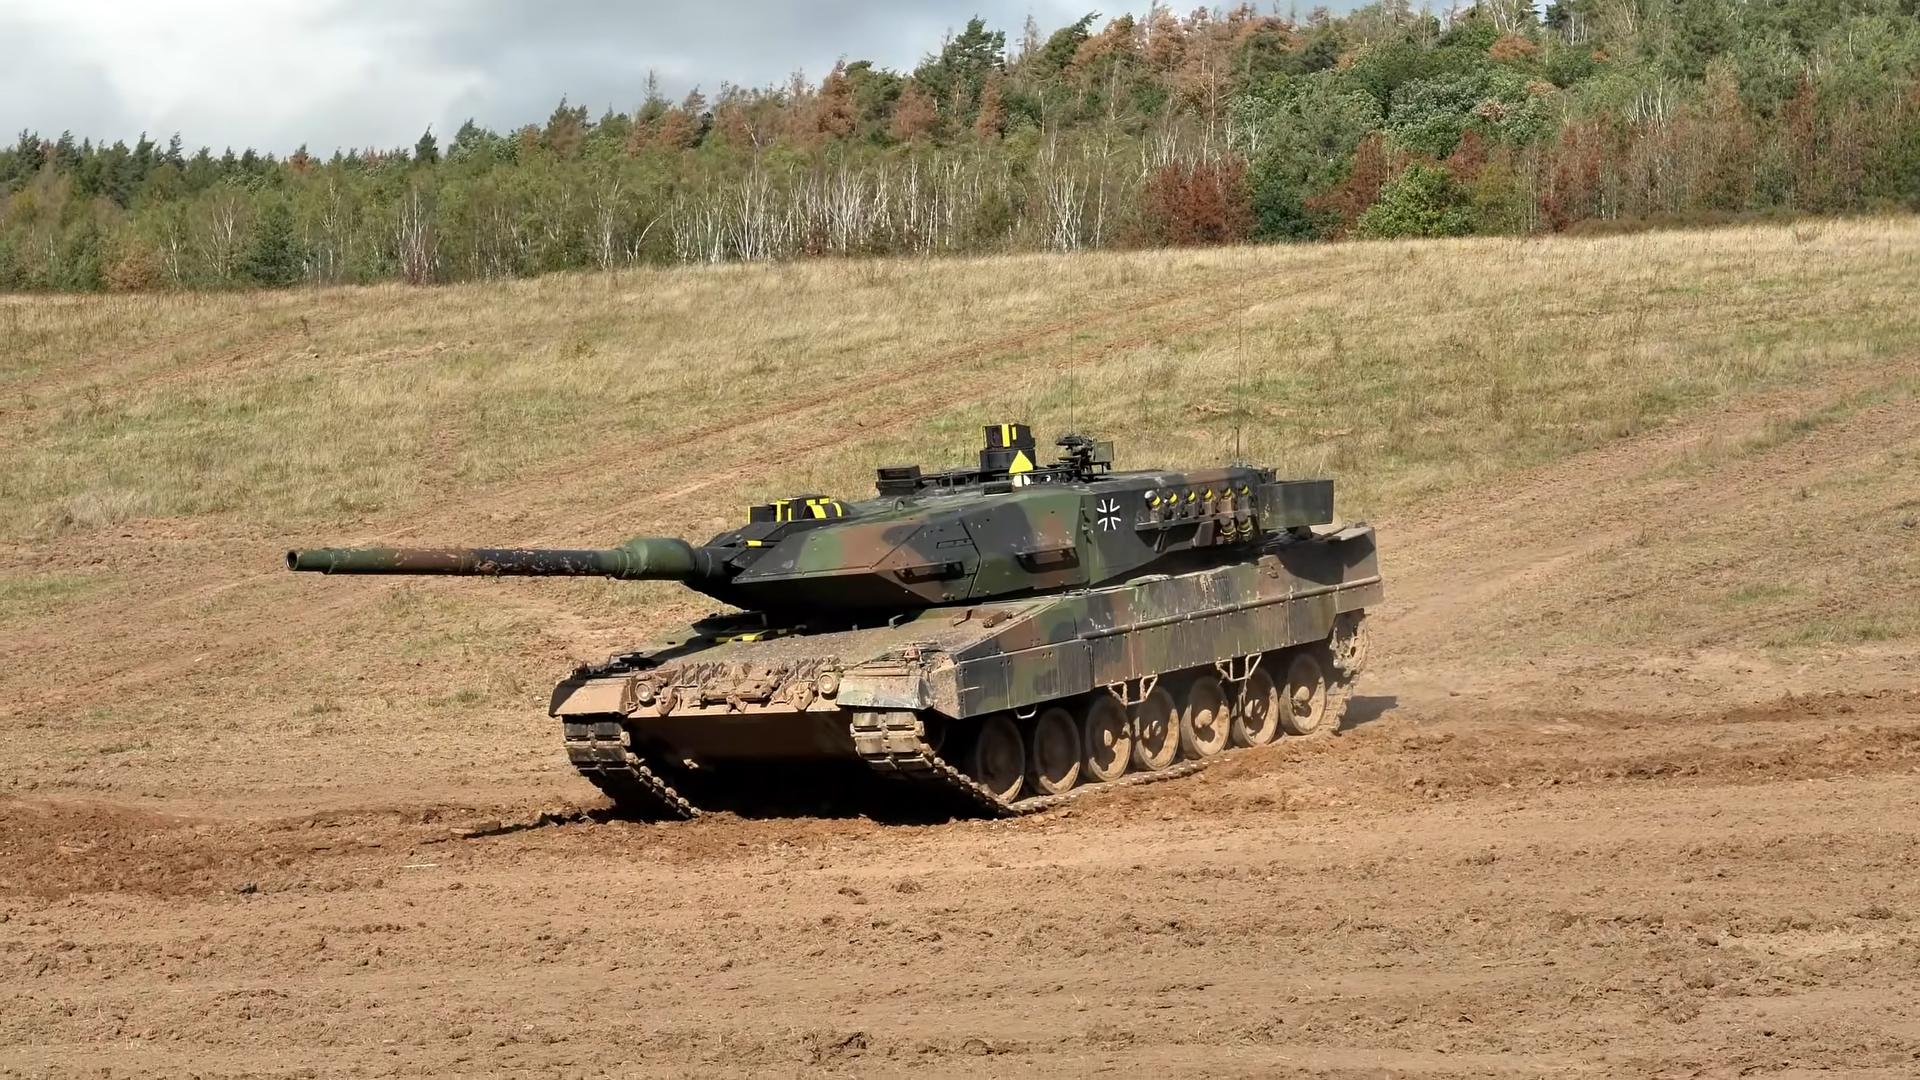tank: (289, 422, 1382, 816)
